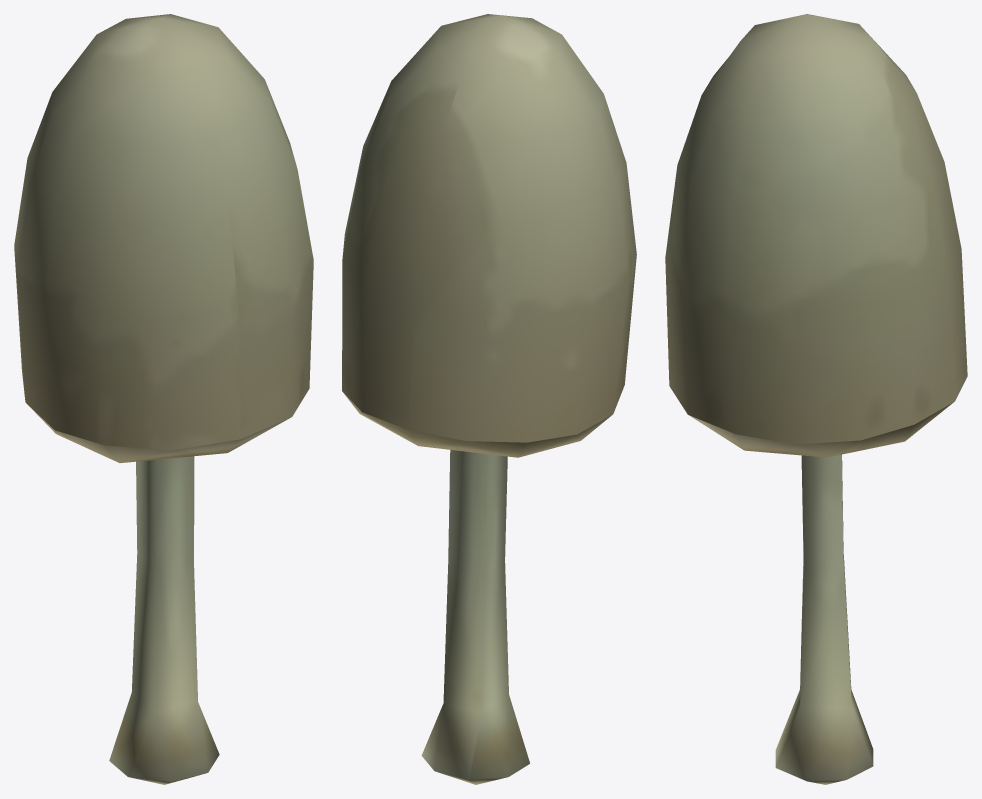
The model's file is Mushroom_01.fbx.
3 views of the same model, side by side, from view 1: azimuth 30°, elevation 25°; view 2: azimuth 150°, elevation 25°; view 3: azimuth 270°, elevation 25° (orthographic).
Parts seen in each view (by area): view 1: Mushroom_01_LOD0; view 2: Mushroom_01_LOD0; view 3: Mushroom_01_LOD0.
Boxes of the visible parts, box(x1,y1,x2,y2) form: Mushroom_01_LOD0: box(14, 14, 313, 784); Mushroom_01_LOD0: box(342, 14, 636, 784); Mushroom_01_LOD0: box(665, 14, 967, 784).
Size of what is drawn, in the model's own units: 0.0872 by 0.2513 by 0.0902.
